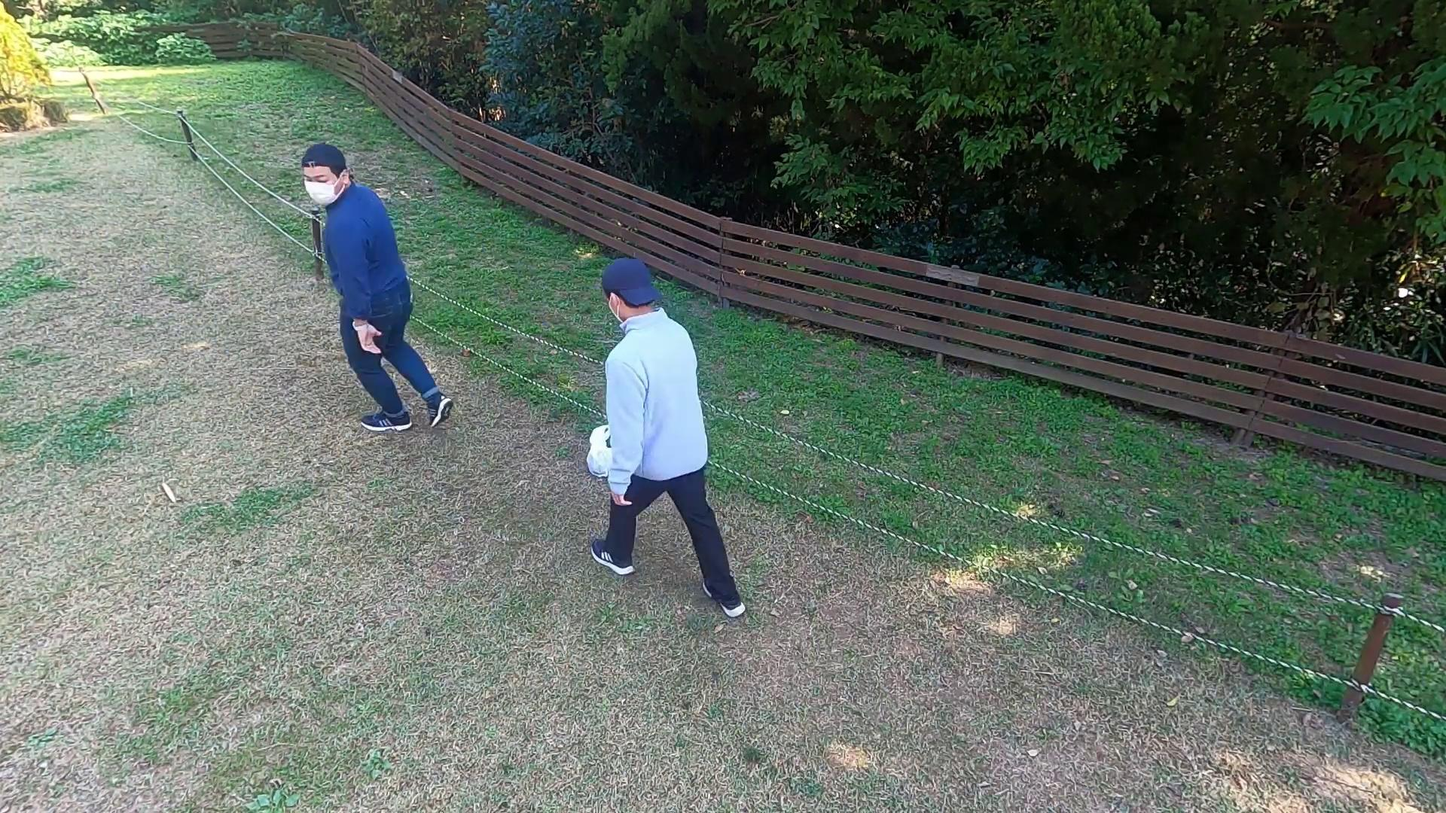person: (568, 257, 754, 630), (286, 142, 453, 437)
trash: (587, 416, 621, 485)
